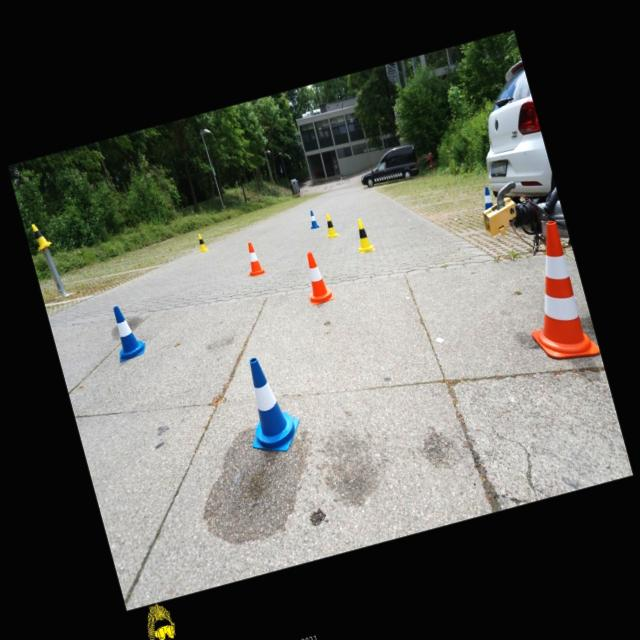blue_cone: (230, 350, 306, 459), (105, 301, 148, 362), (479, 186, 494, 210), (306, 209, 319, 229)
large_orange_cone: (504, 216, 600, 370)
orange_cone: (296, 248, 334, 304), (240, 240, 266, 277)
yellow_cone: (350, 216, 374, 253), (30, 220, 52, 251), (321, 211, 338, 238), (194, 232, 208, 252)
